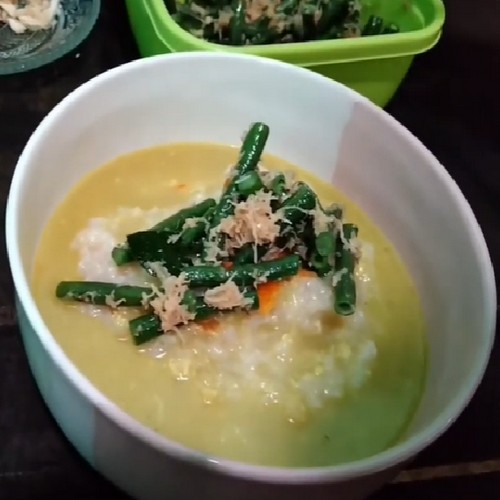bubur mengguh: (76, 106, 419, 437)
